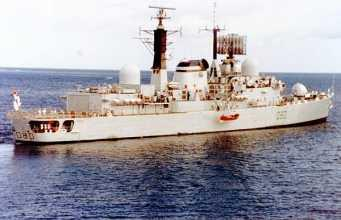warship: (11, 22, 327, 144)
